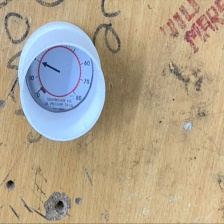gauge: (25, 46, 93, 114)
